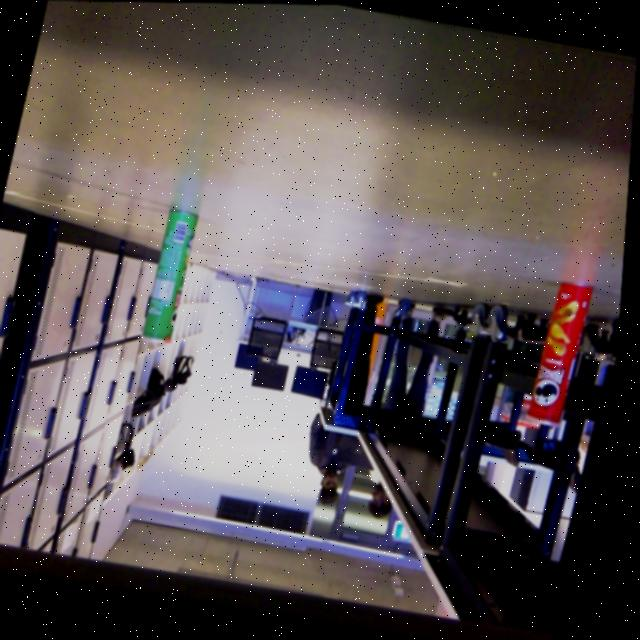greenpringles: (136, 197, 203, 350)
redpringles: (520, 280, 600, 438)
